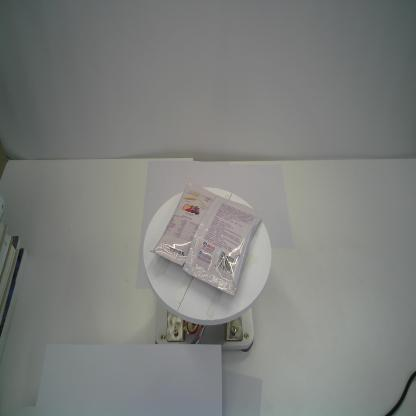Instant Drink: (149, 180, 264, 296)
